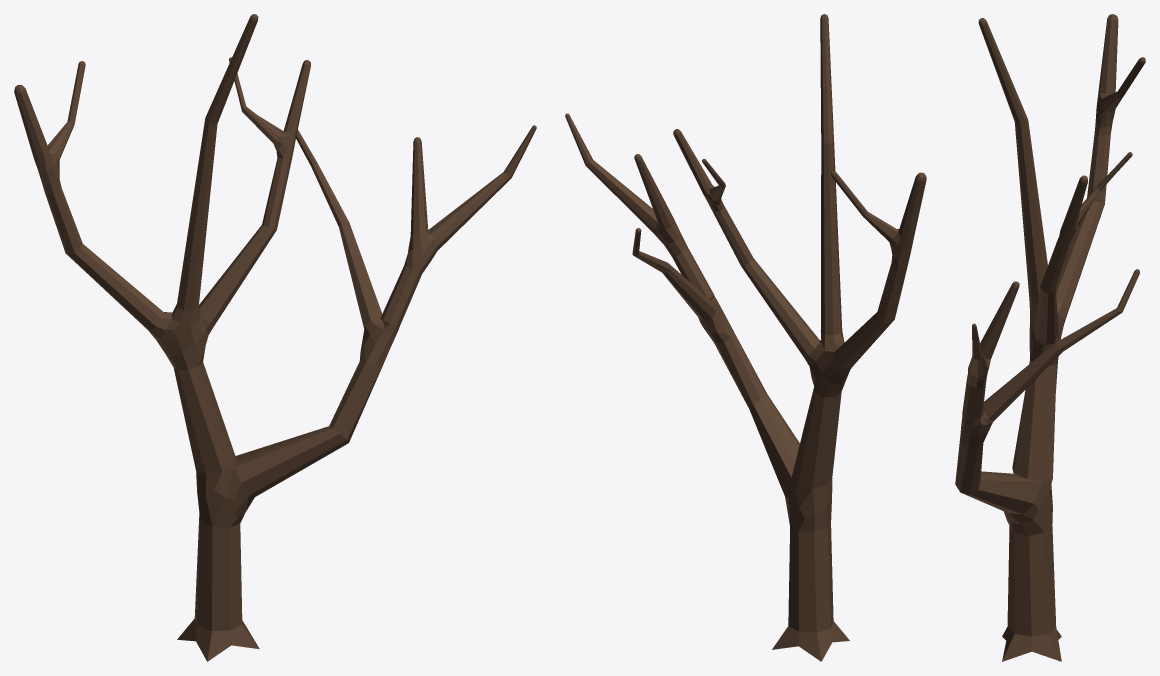
Rendered from tree6.fbx.
3 renders of one model, left to right at view 1: azimuth 30°, elevation 25°; view 2: azimuth 150°, elevation 25°; view 3: azimuth 270°, elevation 25°, orthographic. The views are drawn at different scales.
Parts seen in each view (by area): view 1: Cube; view 2: Cube; view 3: Cube.
Part boxes in pixels (<box>): Cube: <box>14,14,536,661</box>; Cube: <box>565,14,926,661</box>; Cube: <box>955,14,1145,661</box>.
Bounding box in the file's own units: 1189 × 1627 × 442.
